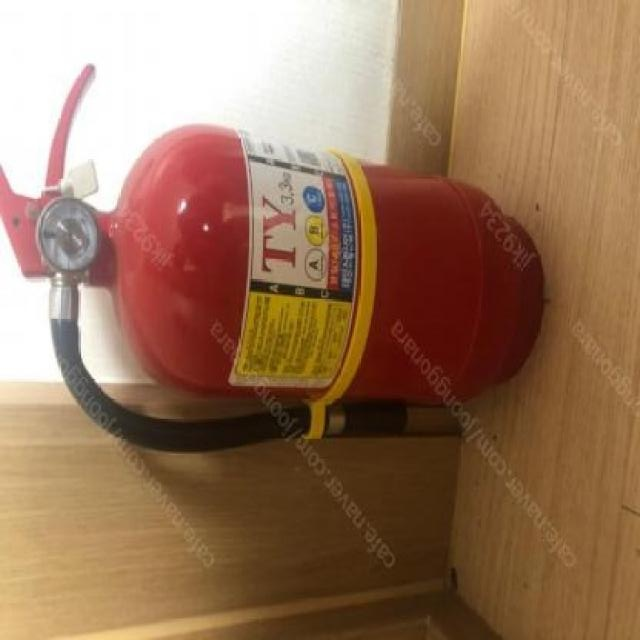fire extinguisher: (2, 64, 545, 453)
